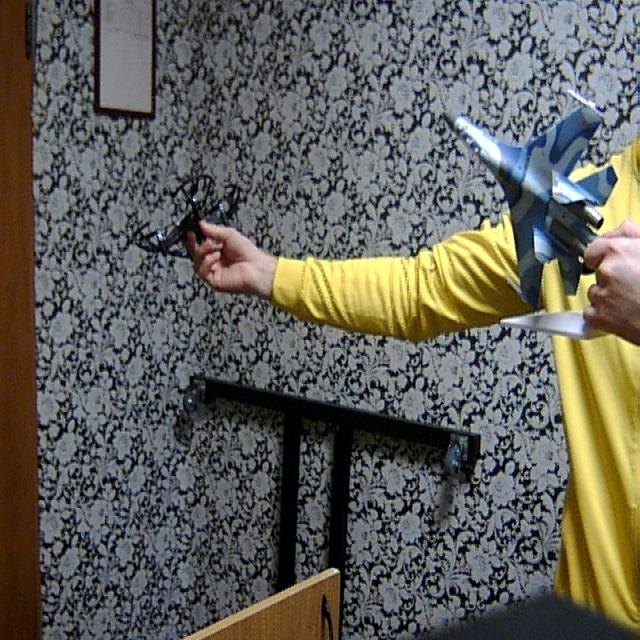drone: (109, 153, 262, 269)
